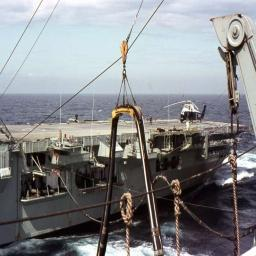Portanaves: (1, 93, 254, 238)
